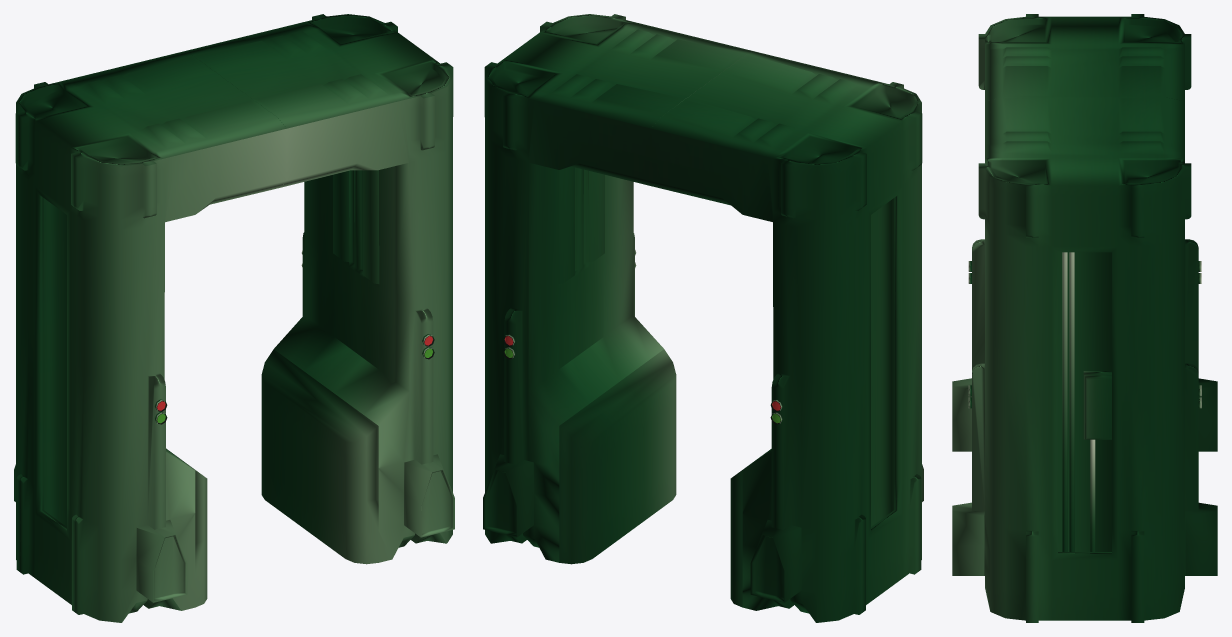
File: Meater_Rig.fbx
3 renders of one model, left to right at view 1: azimuth 30°, elevation 25°; view 2: azimuth 150°, elevation 25°; view 3: azimuth 270°, elevation 25°, orthographic. The views are drawn at different scales.
Visible parts, largest first — view 1: Meater_Rig; view 2: Meater_Rig; view 3: Meater_Rig.
Boxes of the visible parts, box(x1,y1,x2,y2) form: Meater_Rig: box(14, 14, 454, 622); Meater_Rig: box(483, 14, 923, 622); Meater_Rig: box(952, 14, 1217, 622).
Size of the model in its own units: 620 by 727 by 398.
2 materials, 2 textured.
